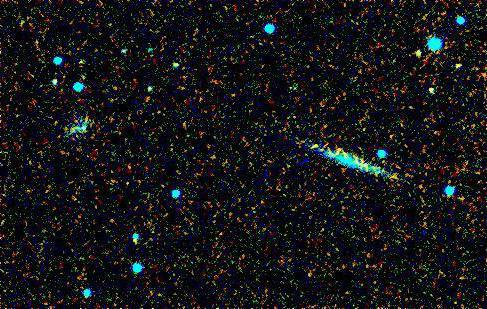star: (304, 133, 334, 163)
